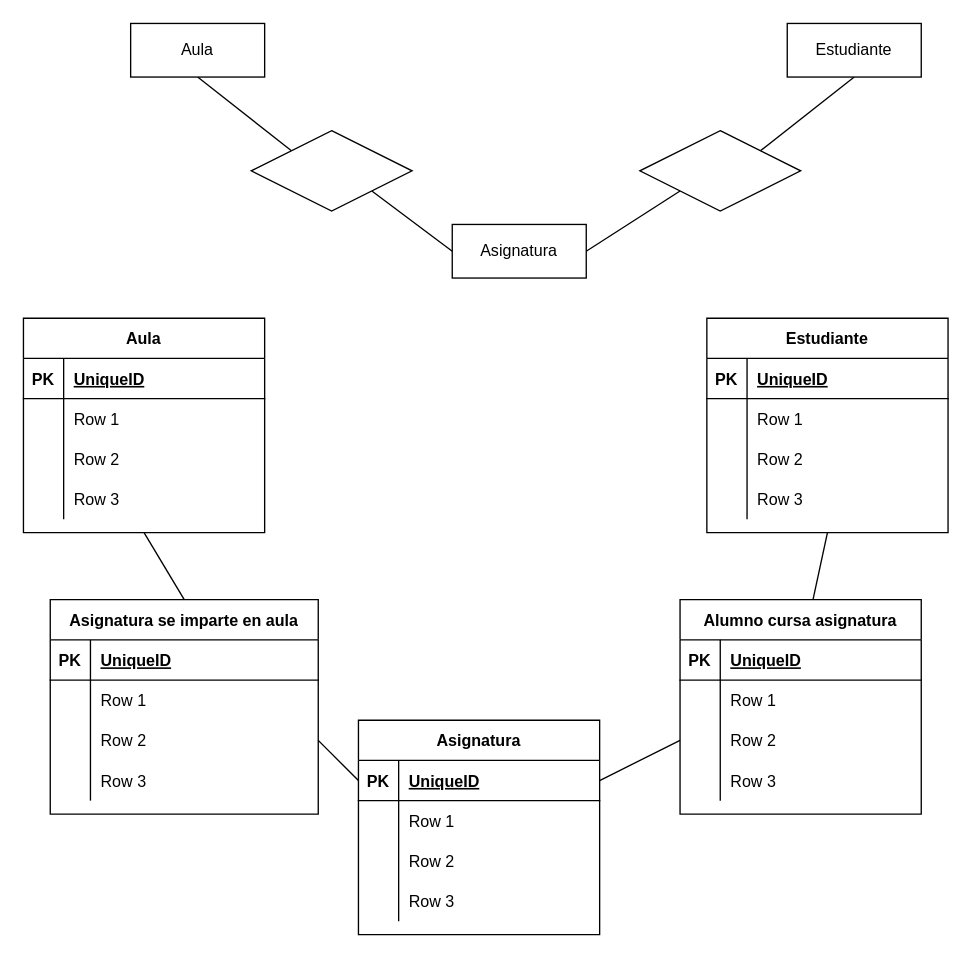
Some shapes in this 972 by 958 pixel diagram are drawn without their labels. The centre of each missing label's shape, as x and y in pixels:
"Cursa" belongs at point 720,170.
"Se imparte en" belongs at point 331,170.
